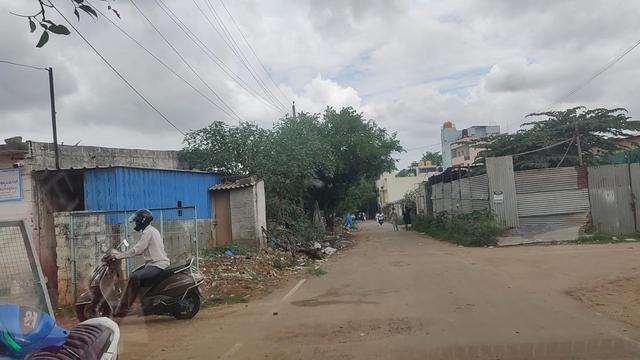LMV: (92, 205, 197, 323)
RoadDamages: (286, 314, 424, 347)
